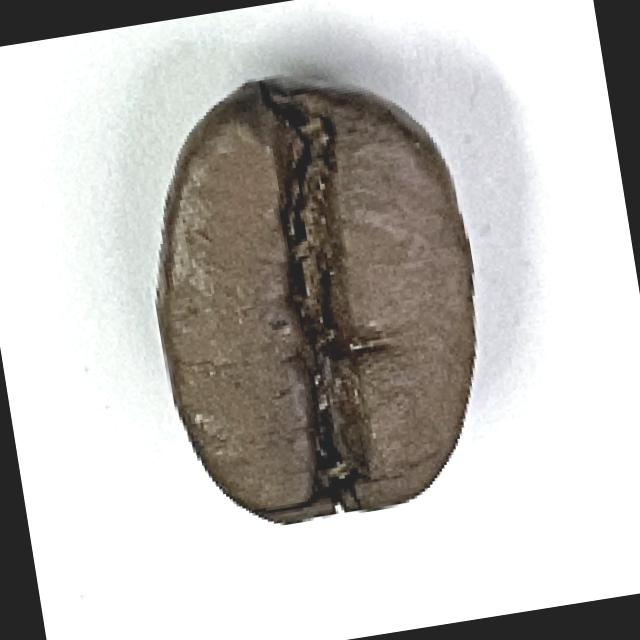bean: (110, 22, 524, 551)
